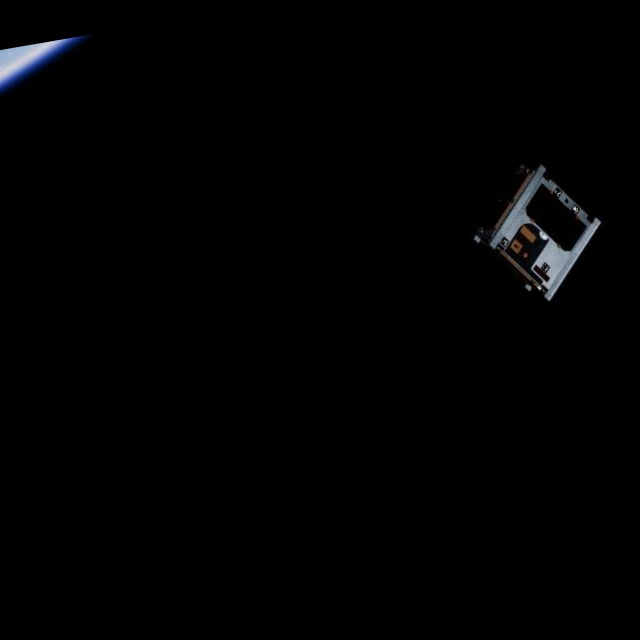medium_debris: (469, 154, 614, 311)
